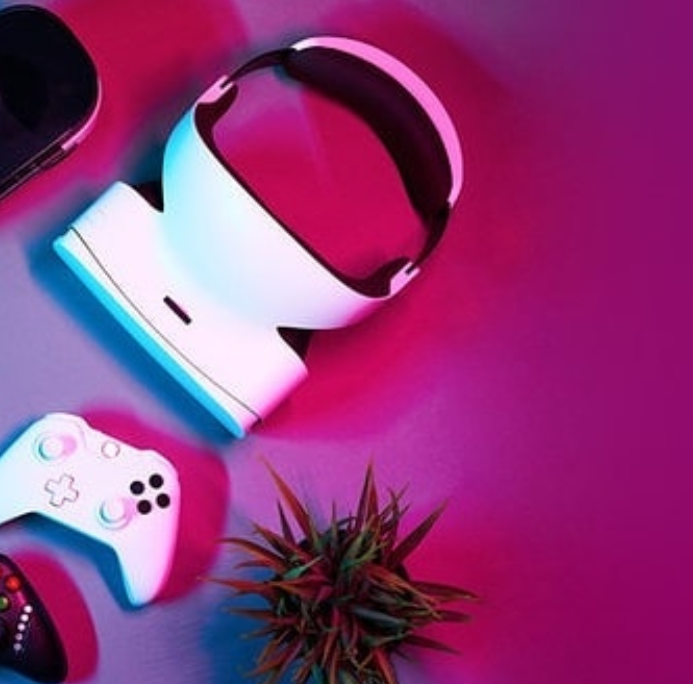gamingconsole: (2, 411, 181, 605)
